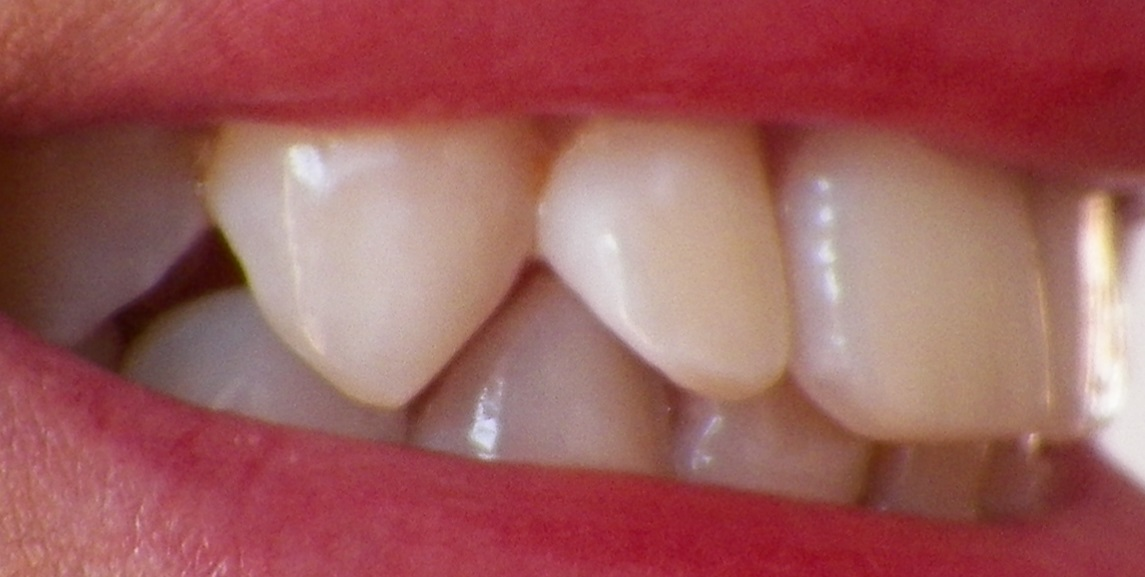boca: (35, 120, 1126, 517)
